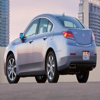Car: (4, 13, 99, 86)
